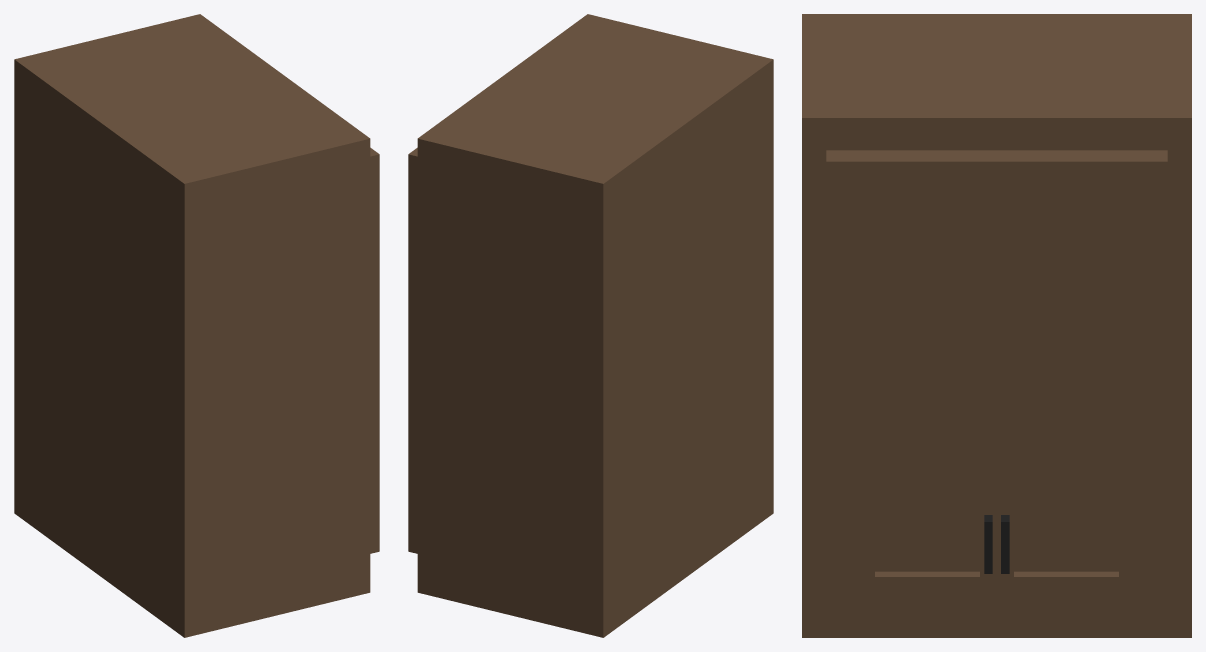
File: Shelves.fbx
3 renders of one model, left to right at view 1: azimuth 30°, elevation 25°; view 2: azimuth 150°, elevation 25°; view 3: azimuth 270°, elevation 25°, orthographic. The views are drawn at different scales.
Parts seen in each view (by area): view 1: pCube6; view 2: pCube6; view 3: pCube6.
Boxes of the visible parts, x1,y1,x2,y2 form: pCube6: (14, 14, 379, 637); pCube6: (408, 14, 773, 637); pCube6: (802, 14, 1191, 637).
Size of the model in its own units: 0.4599 by 0.9134 by 0.6207.
